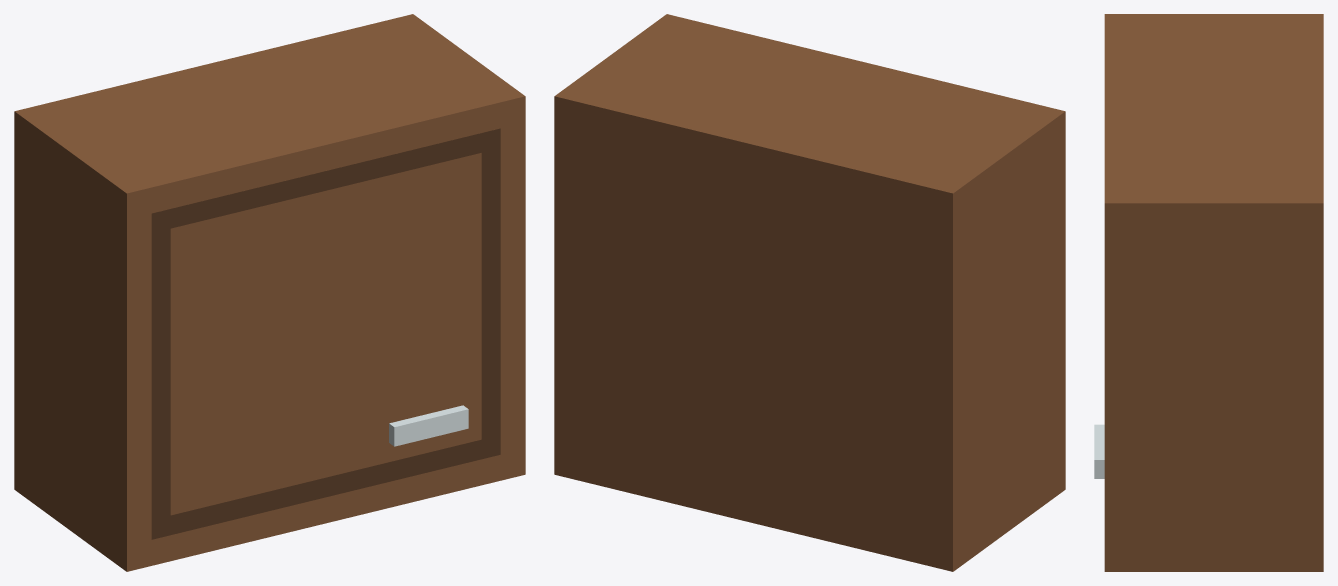
The model's file is m_upper_cabinet.glb.
3 renders of one model, left to right at view 1: azimuth 30°, elevation 25°; view 2: azimuth 150°, elevation 25°; view 3: azimuth 270°, elevation 25°, orthographic. The views are drawn at different scales.
Visible parts, largest first — view 1: Mesh kitchenCabinetUpper, door; view 2: Mesh kitchenCabinetUpper; view 3: Mesh kitchenCabinetUpper, door.
Part boxes in pixels (<box>): Mesh kitchenCabinetUpper: <box>14,14,525,571</box>; door: <box>151,128,500,539</box>; Mesh kitchenCabinetUpper: <box>554,14,1065,571</box>; Mesh kitchenCabinetUpper: <box>1104,14,1323,571</box>; door: <box>1094,424,1104,478</box>.
Bounding box in the file's own units: 0.7718 × 0.7 × 0.3949.
